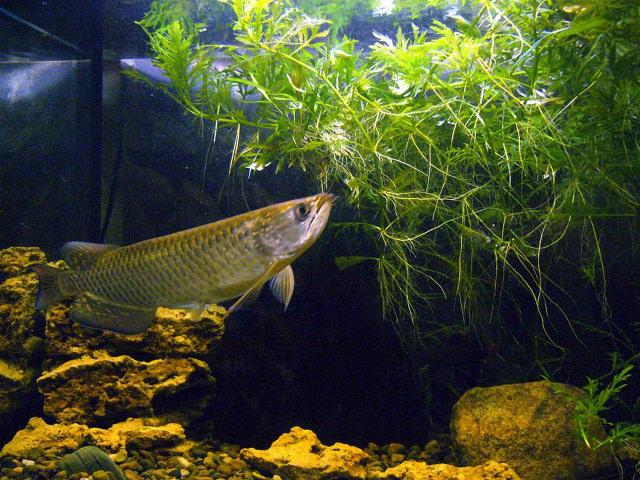Mulut: (277, 183, 355, 241)
Sirip Anal: (56, 296, 162, 347)
Sirip Dada: (216, 251, 306, 331)
Sirip Ekor: (20, 253, 76, 323)
Sirip Perut: (166, 293, 218, 339)
Sirip Punggung: (53, 224, 144, 278)
